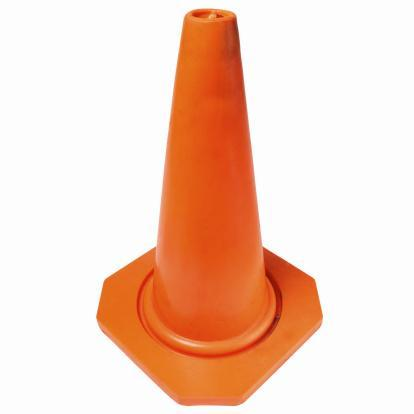Cone: (91, 7, 325, 408)
